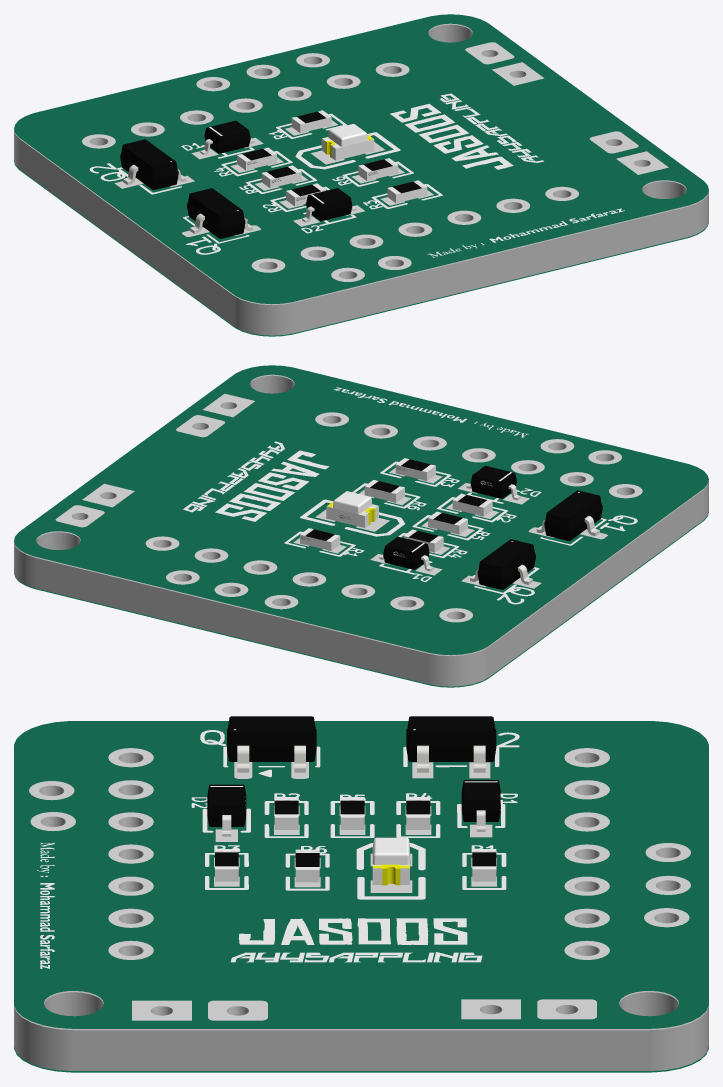
The model's file is Jasoos_PCB1.glb.
The picture shows the model from 3 angles, top to bottom: view 1: azimuth 30°, elevation 25°; view 2: azimuth 150°, elevation 25°; view 3: azimuth 270°, elevation 25°; orthographic projection. The views are drawn at different scales.
Parts seen in each view (by area): view 1: PCB.267, PCB.268, PCB.027, PCB.005, PCB.285, PCB, PCB.266, PCB.009, PCB.006, PCB.141, PCB.144, PCB.080 (+1 smaller); view 2: PCB.267, PCB.268, PCB.005, PCB.027, PCB.285, PCB, PCB.266, PCB.009, PCB.006, PCB.141, PCB.144, PCB.080 (+1 smaller); view 3: PCB.267, PCB.268, PCB.027, PCB.005, PCB, PCB.285, PCB.266, PCB.144, PCB.141, PCB.080, PCB.149, PCB.006 (+5 smaller).
Boxes of the visible parts, bbox=[...] form: PCB.267: bbox=[14, 14, 708, 304]; PCB.268: bbox=[14, 23, 708, 335]; PCB.027: bbox=[120, 139, 186, 189]; PCB.005: bbox=[187, 188, 252, 238]; PCB.285: bbox=[200, 120, 254, 154]; PCB: bbox=[302, 188, 356, 222]; PCB.266: bbox=[14, 161, 708, 336]; PCB.009: bbox=[321, 136, 374, 160]; PCB.006: bbox=[328, 123, 367, 146]; PCB.141: bbox=[492, 62, 543, 85]; PCB.144: bbox=[616, 151, 668, 174]; PCB.080: bbox=[465, 42, 514, 64]; PCB.267: bbox=[14, 365, 708, 655]; PCB.268: bbox=[14, 374, 708, 686]; PCB.005: bbox=[536, 490, 602, 540]; PCB.027: bbox=[470, 539, 535, 589]; PCB.285: bbox=[379, 536, 433, 571]; PCB: bbox=[466, 465, 520, 500]; PCB.266: bbox=[14, 512, 708, 687]; PCB.009: bbox=[326, 504, 378, 527]; PCB.006: bbox=[333, 491, 372, 514]; PCB.141: bbox=[82, 484, 134, 507]; PCB.144: bbox=[203, 394, 254, 417]; PCB.080: bbox=[55, 505, 104, 527]; PCB.267: bbox=[14, 721, 708, 1028]; PCB.268: bbox=[14, 748, 708, 1070]; PCB.027: bbox=[406, 716, 496, 772]; PCB.005: bbox=[227, 716, 316, 772]; PCB: bbox=[207, 784, 246, 836]; PCB.285: bbox=[461, 780, 500, 831]; PCB.266: bbox=[14, 1046, 708, 1072]; PCB.144: bbox=[132, 1000, 191, 1020]; PCB.141: bbox=[461, 999, 520, 1019]; PCB.080: bbox=[537, 999, 596, 1019]; PCB.149: bbox=[208, 1000, 267, 1020]; PCB.006: bbox=[372, 837, 409, 864].
Bounding box in the file's own units: 2.43 × 0.287 × 2.32.
